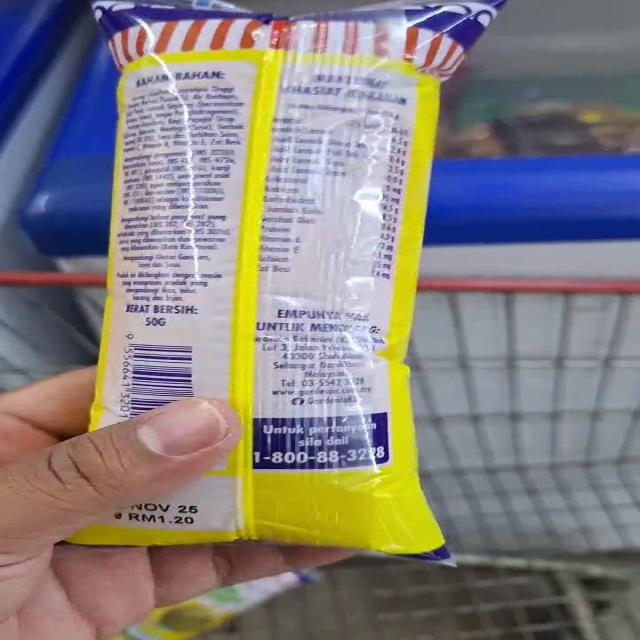Roti: (78, 9, 492, 574)
